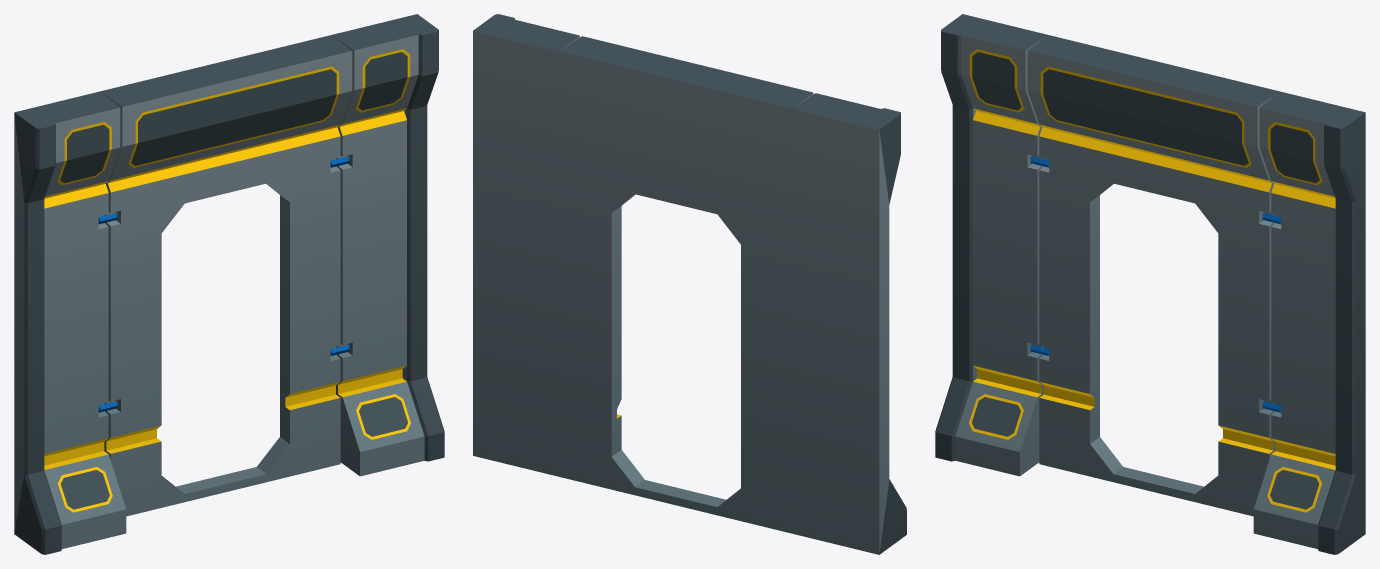
File: Wall_type_C_059.fbx
3 renders of one model, left to right at view 1: azimuth 30°, elevation 25°; view 2: azimuth 150°, elevation 25°; view 3: azimuth 330°, elevation 25°, orthographic.
Parts seen in each view (by area): view 1: Wall_type_C_059; view 2: Wall_type_C_059; view 3: Wall_type_C_059.
Part boxes in pixels (box(x1,y1,x2,y2)): Wall_type_C_059: box(14, 14, 444, 554); Wall_type_C_059: box(473, 14, 906, 554); Wall_type_C_059: box(935, 14, 1365, 554).
Bounding box in the file's own units: 400 × 50 × 400.
